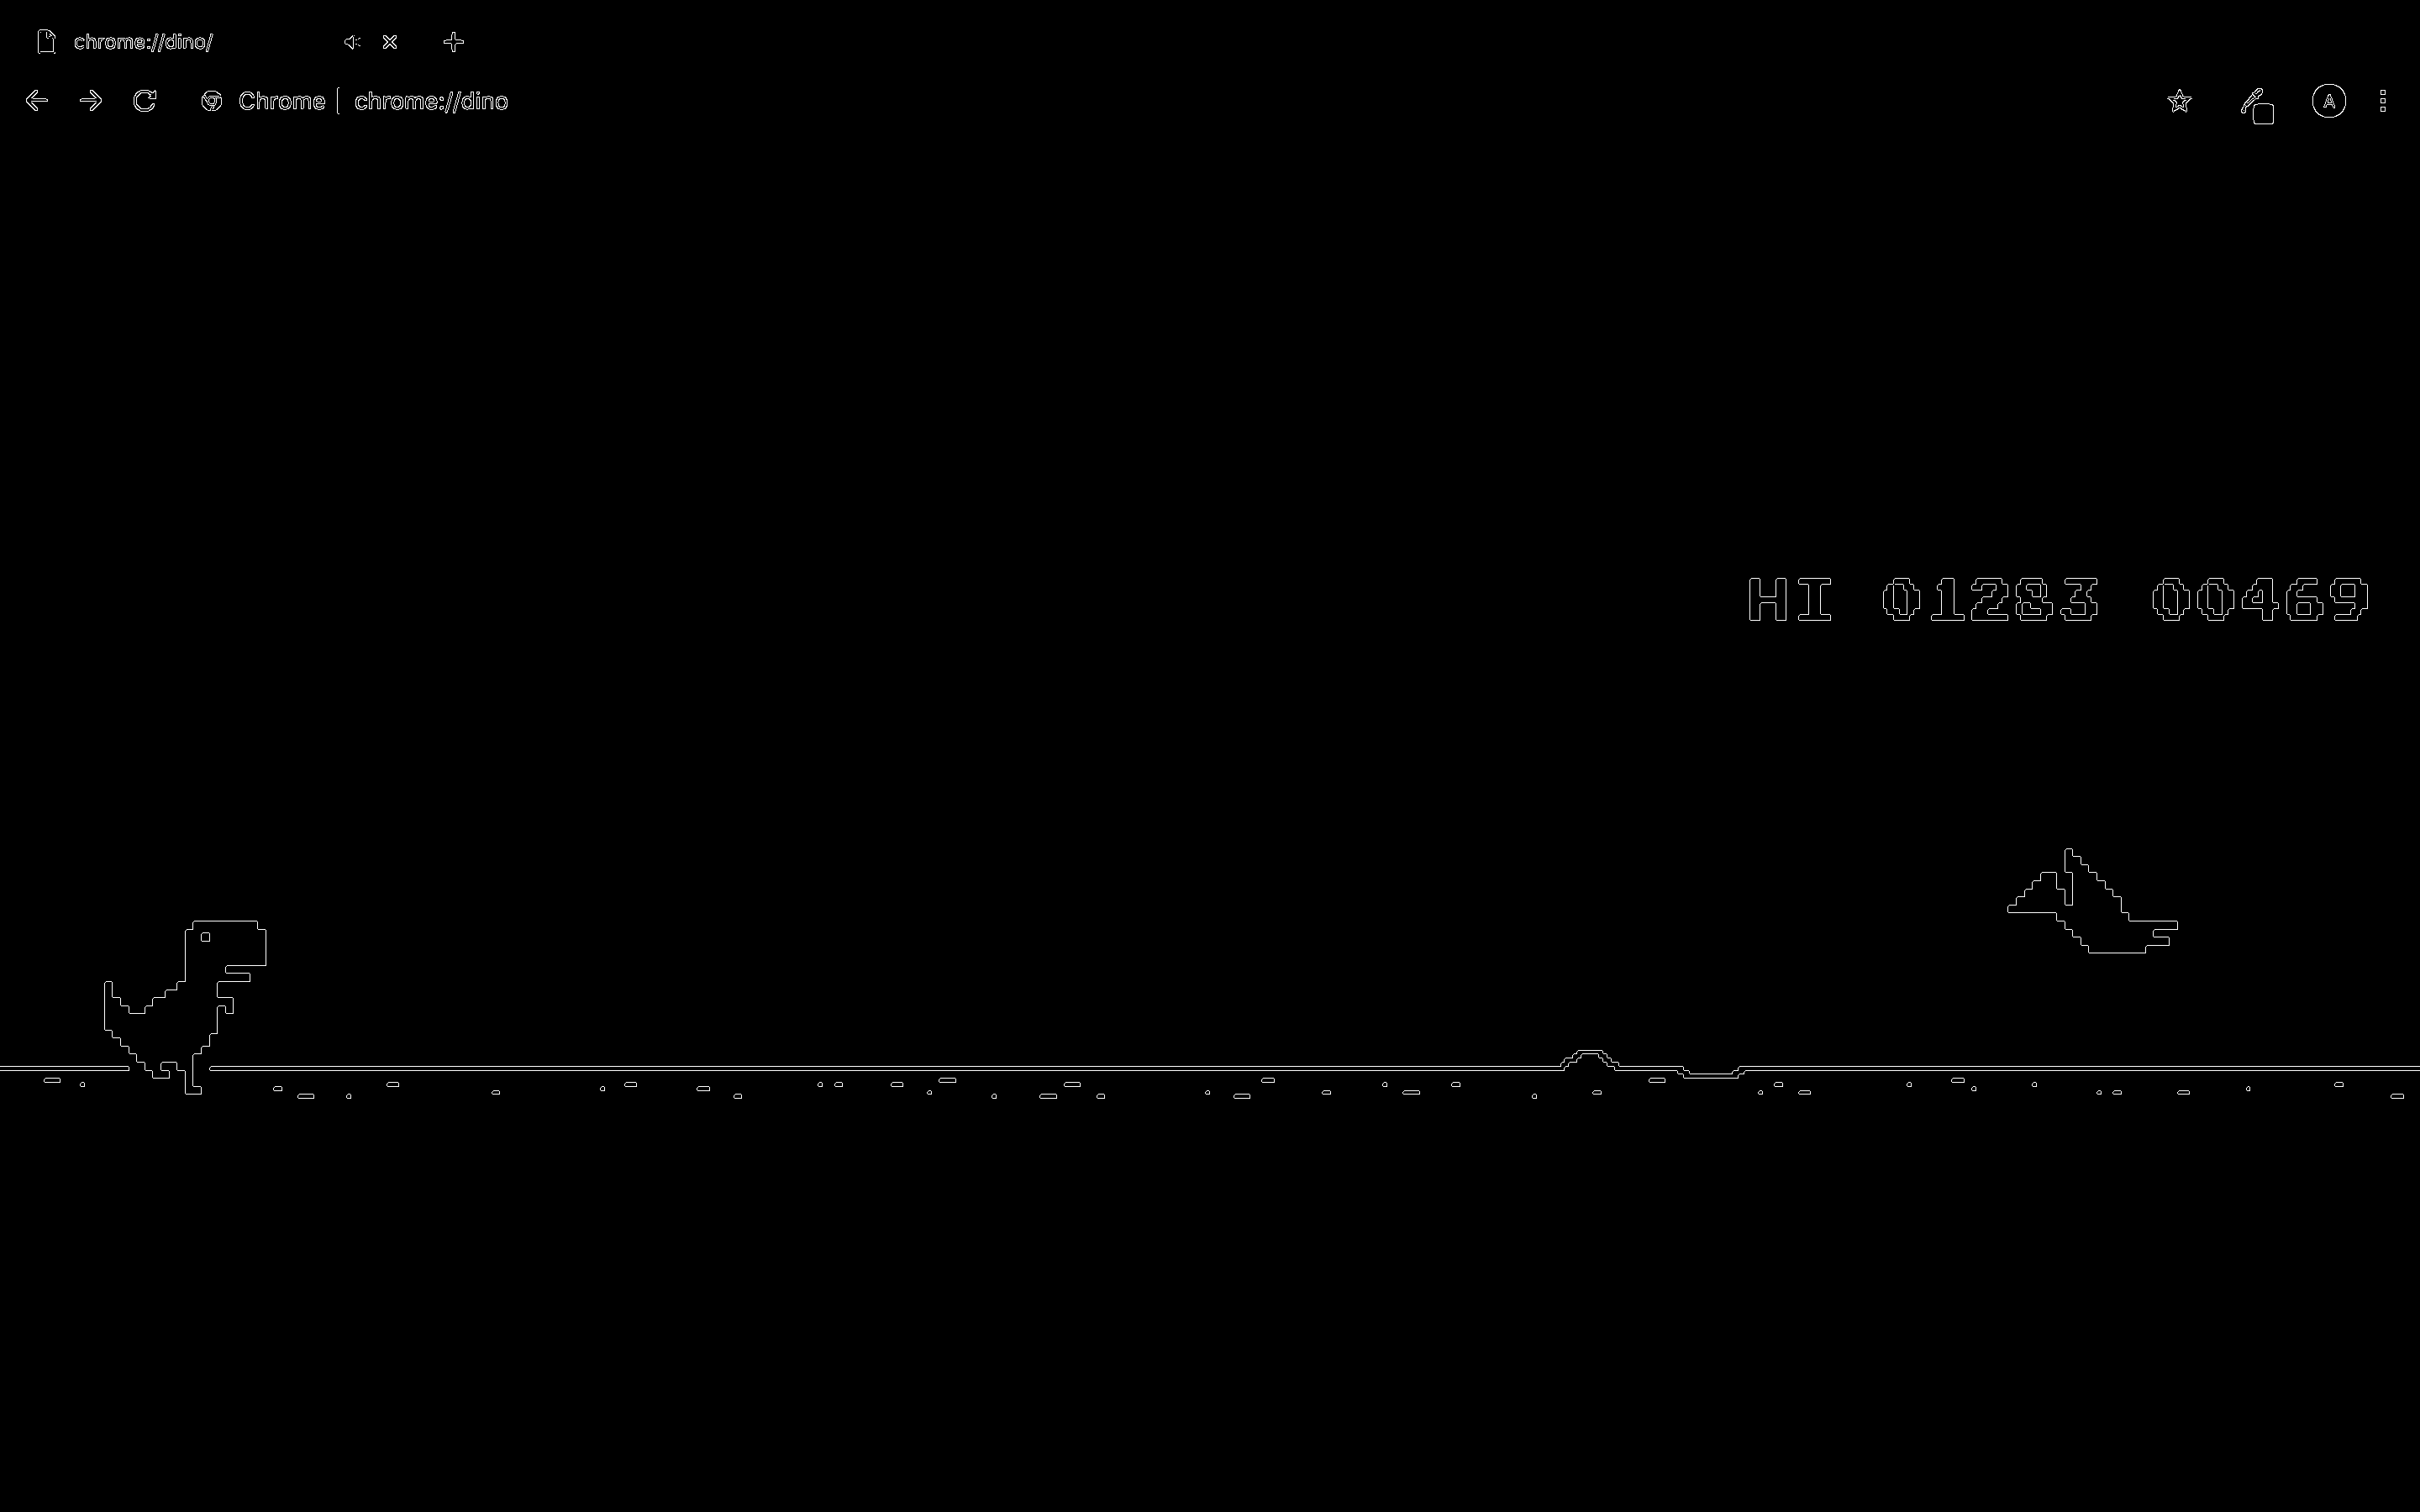Bird: (1993, 852, 2185, 963)
Dino: (108, 918, 272, 1090)
